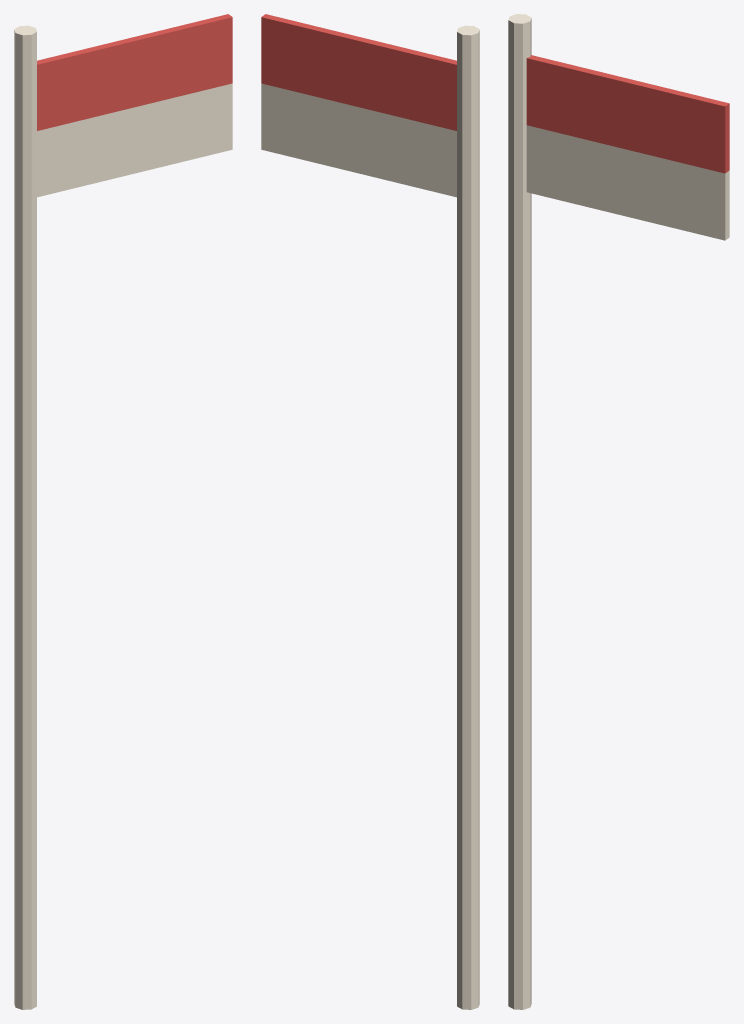
File: prop_bendera.fbx
The picture shows the model from 3 angles, left to right: view 1: azimuth 30°, elevation 25°; view 2: azimuth 150°, elevation 25°; view 3: azimuth 330°, elevation 25°; orthographic projection.
Parts seen in each view (by area): view 1: prop_bendera; view 2: prop_bendera; view 3: prop_bendera.
Part boxes in pixels (x1,y1,x2,y2): prop_bendera: [14, 14, 232, 1009]; prop_bendera: [261, 14, 479, 1009]; prop_bendera: [508, 14, 729, 1009].
Bounding box in the file's own units: 116 × 500 × 11.
Materials: 1 (1 with a texture image).
